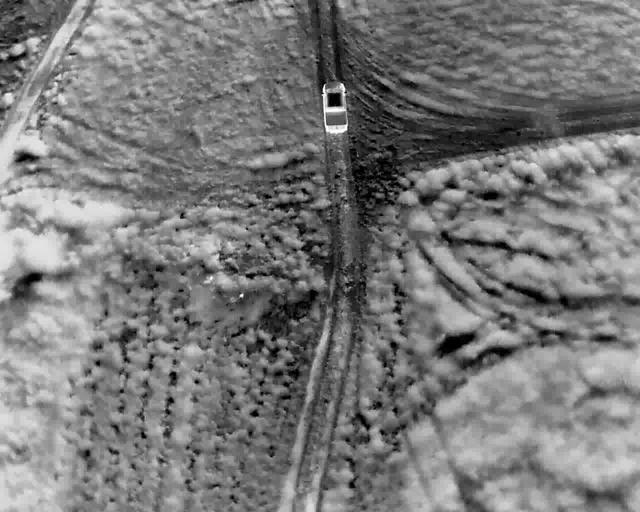car: (320, 81, 347, 134)
